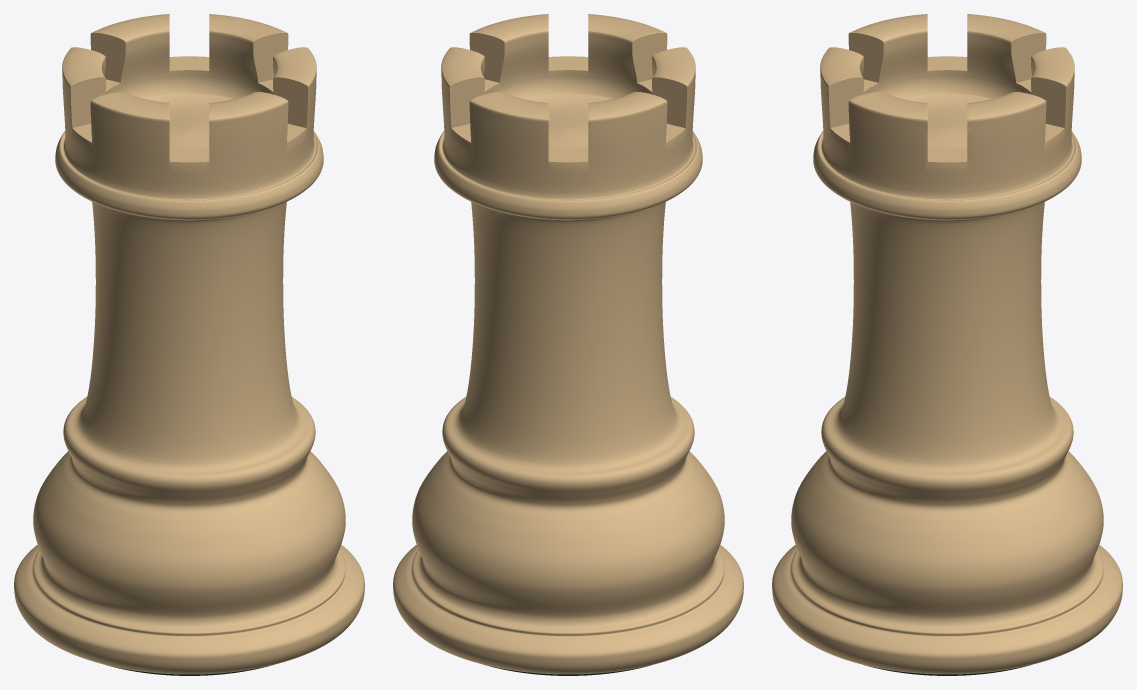
File: rook.glb
3 renders of one model, left to right at view 1: azimuth 30°, elevation 25°; view 2: azimuth 150°, elevation 25°; view 3: azimuth 270°, elevation 25°, orthographic.
Parts seen in each view (by area): view 1: Piece_Rook; view 2: Piece_Rook; view 3: Piece_Rook.
Boxes of the visible parts, box(x1,y1,x2,y2) form: Piece_Rook: box(14, 14, 364, 675); Piece_Rook: box(393, 14, 743, 675); Piece_Rook: box(772, 14, 1122, 675).
Size of the model in its own units: 0.0354 by 0.0611 by 0.0354.
